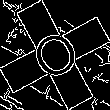O_SE: (24, 22, 86, 88)
